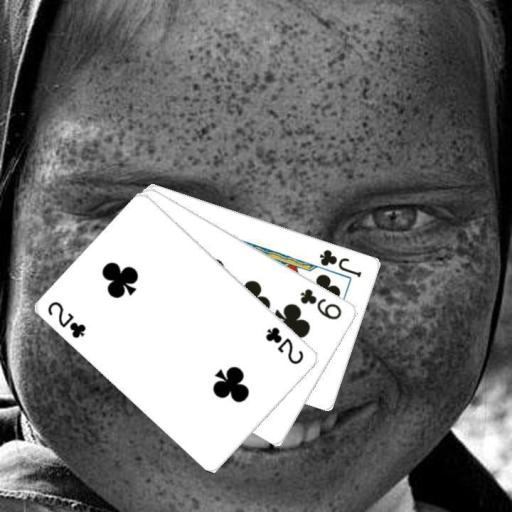2C: (262, 324, 306, 366), (45, 298, 88, 340)
9C: (297, 285, 344, 322)
JC: (317, 246, 364, 279)
